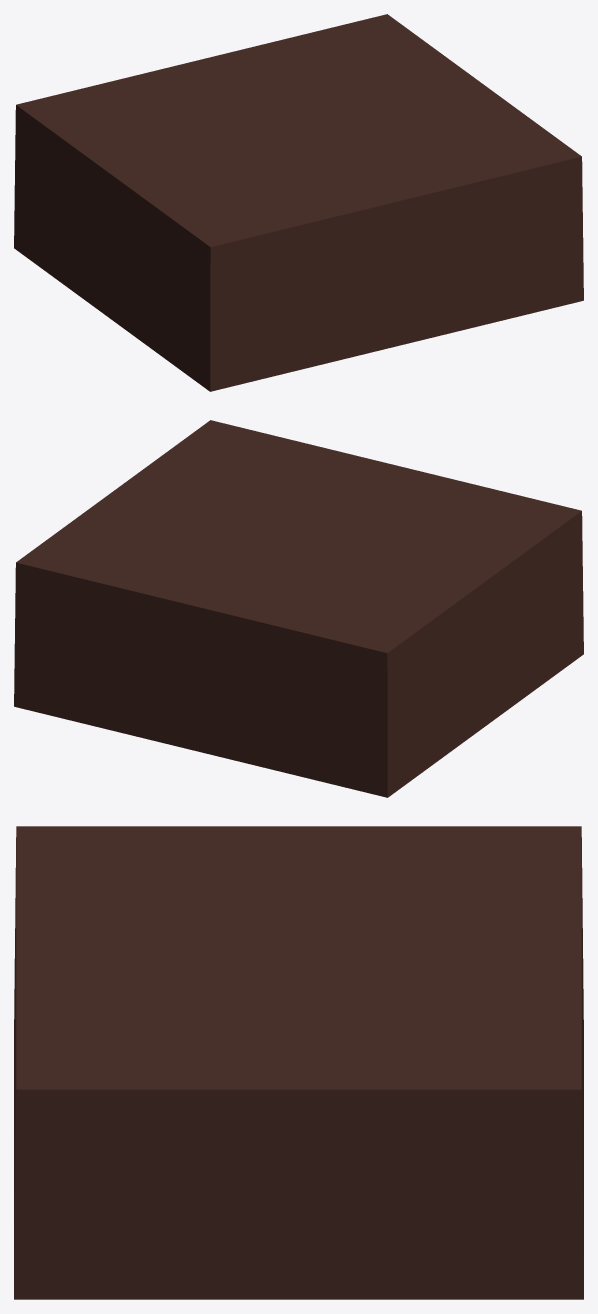
3 renders of one model, top to bottom at view 1: azimuth 30°, elevation 25°; view 2: azimuth 150°, elevation 25°; view 3: azimuth 270°, elevation 25°, orthographic. The views are drawn at different scales.
Visible parts, largest first — view 1: blueprint.041; view 2: blueprint.041; view 3: blueprint.041.
Part boxes in pixels (box(x1,y1,x2,y2)): blueprint.041: box(14, 14, 583, 391); blueprint.041: box(14, 420, 583, 797); blueprint.041: box(14, 826, 583, 1299).
Bounding box in the file's own units: 186 × 68.51 × 169.
